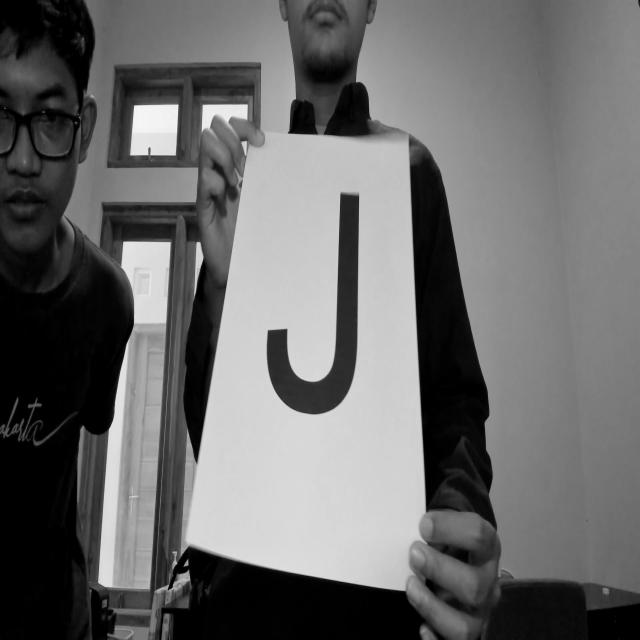j: (251, 176, 379, 464)
